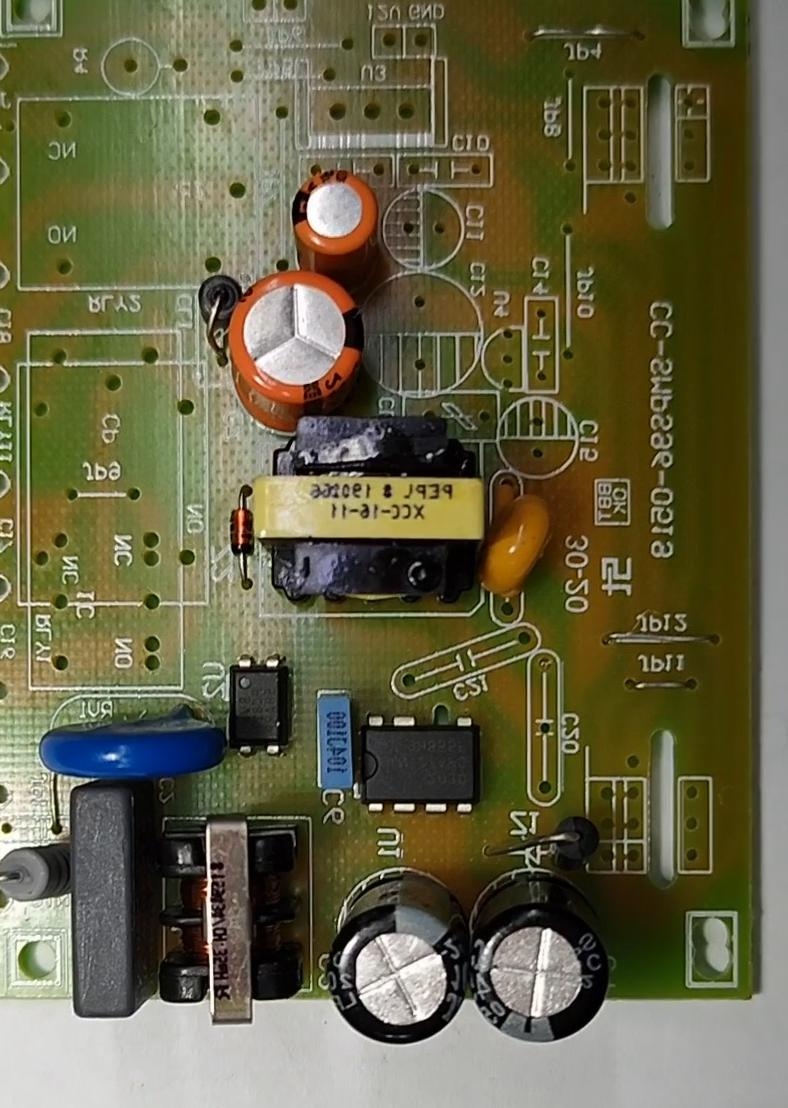Cap1: (208, 258, 382, 444)
Cap2: (285, 165, 389, 270)
Cap3: (321, 855, 483, 1048)
Cap4: (458, 849, 626, 1046)
MOSFET: (348, 708, 487, 819)
Mov: (30, 699, 240, 789)
Resistor: (1, 828, 65, 916)
Transformer: (246, 418, 498, 606), (151, 808, 312, 1033)
